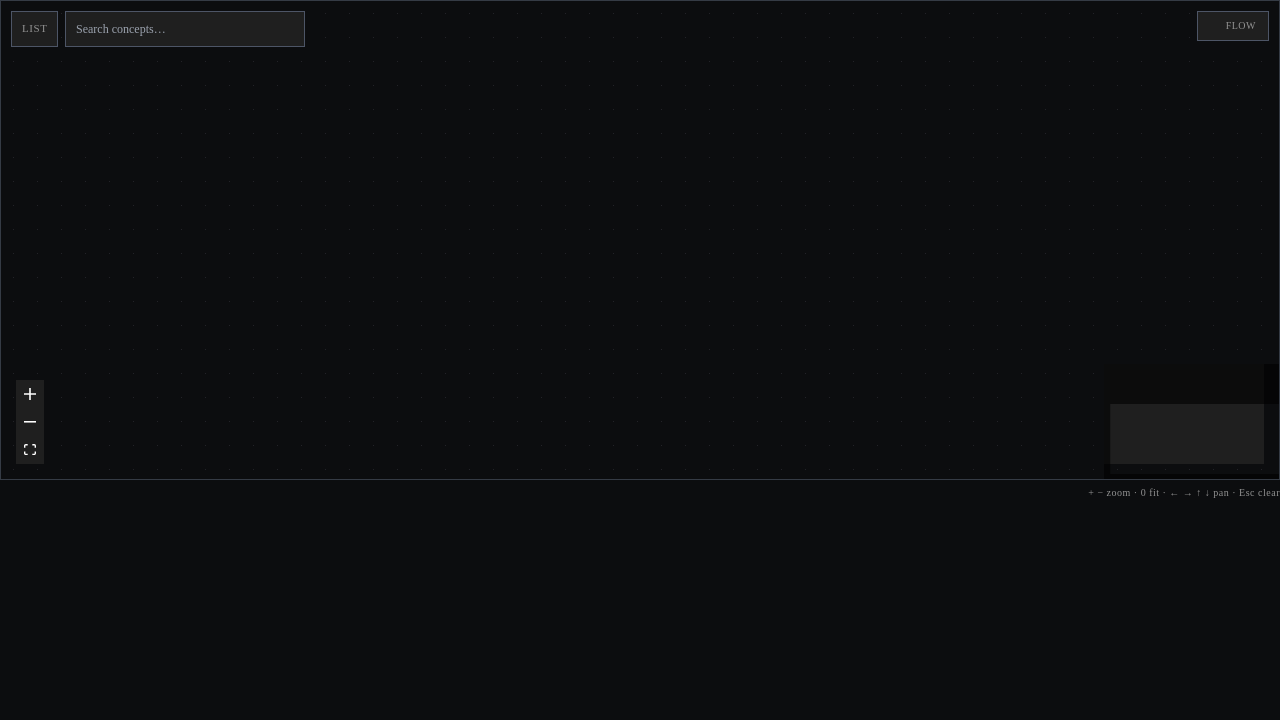
Test: ConceptGraphFlow › opens the list view and selects a concept via its buttons
The width and height of the screenshot is (1280, 720).
Click the button with aria-label "Open concept list": x=35, y=29 [11,11,58,47]
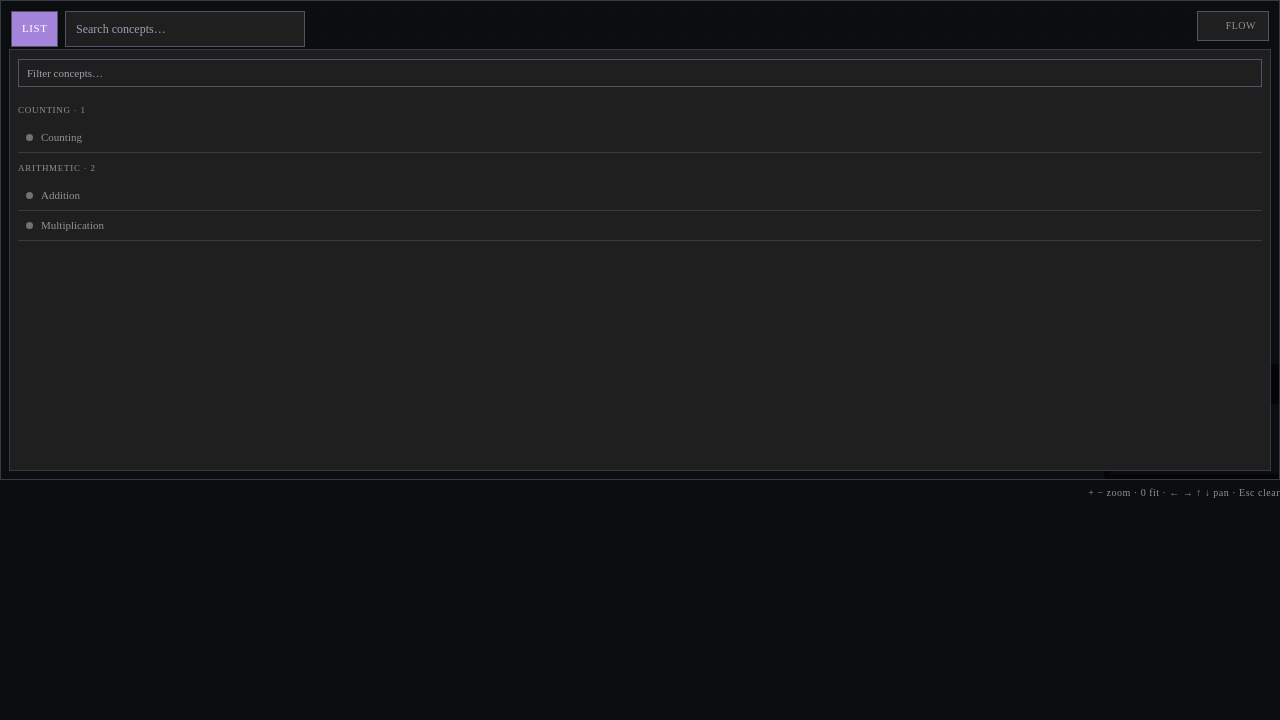
Now the dialog named "Concept list" is shown, box [9,49,1271,471]
Click the button "Addition": x=61, y=195 [18,181,1262,211]
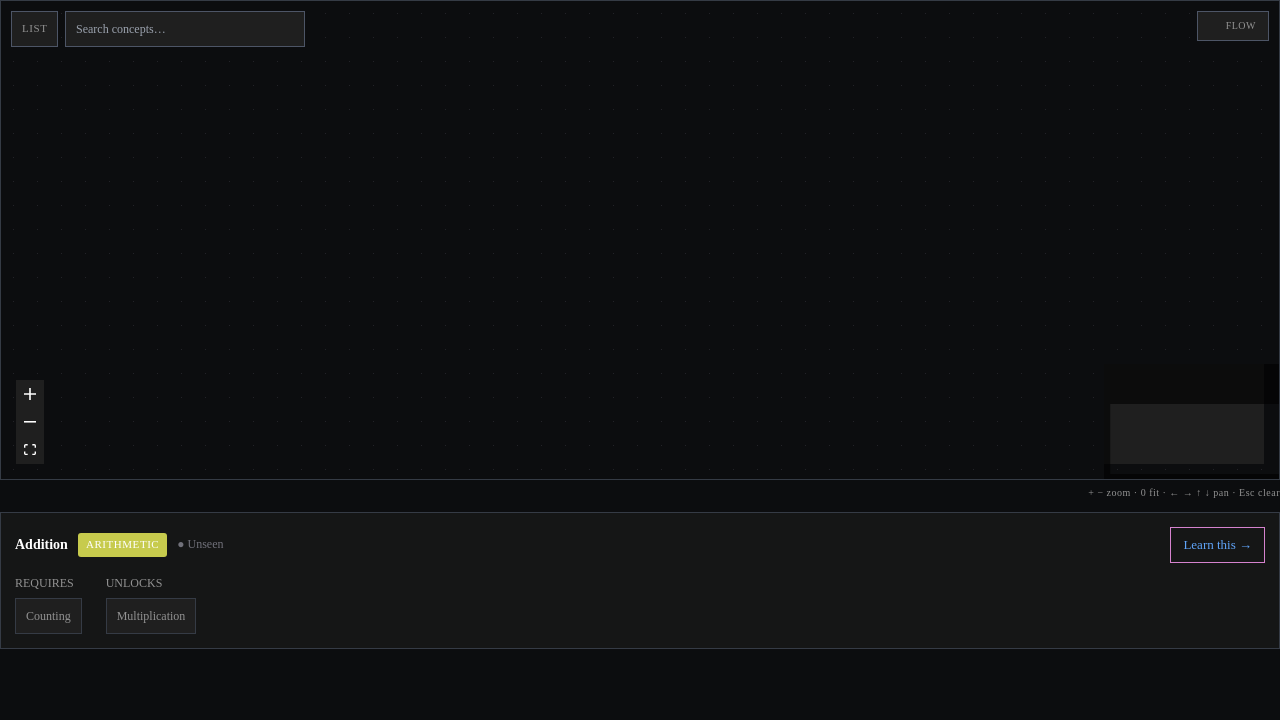
Now the dialog is gone
